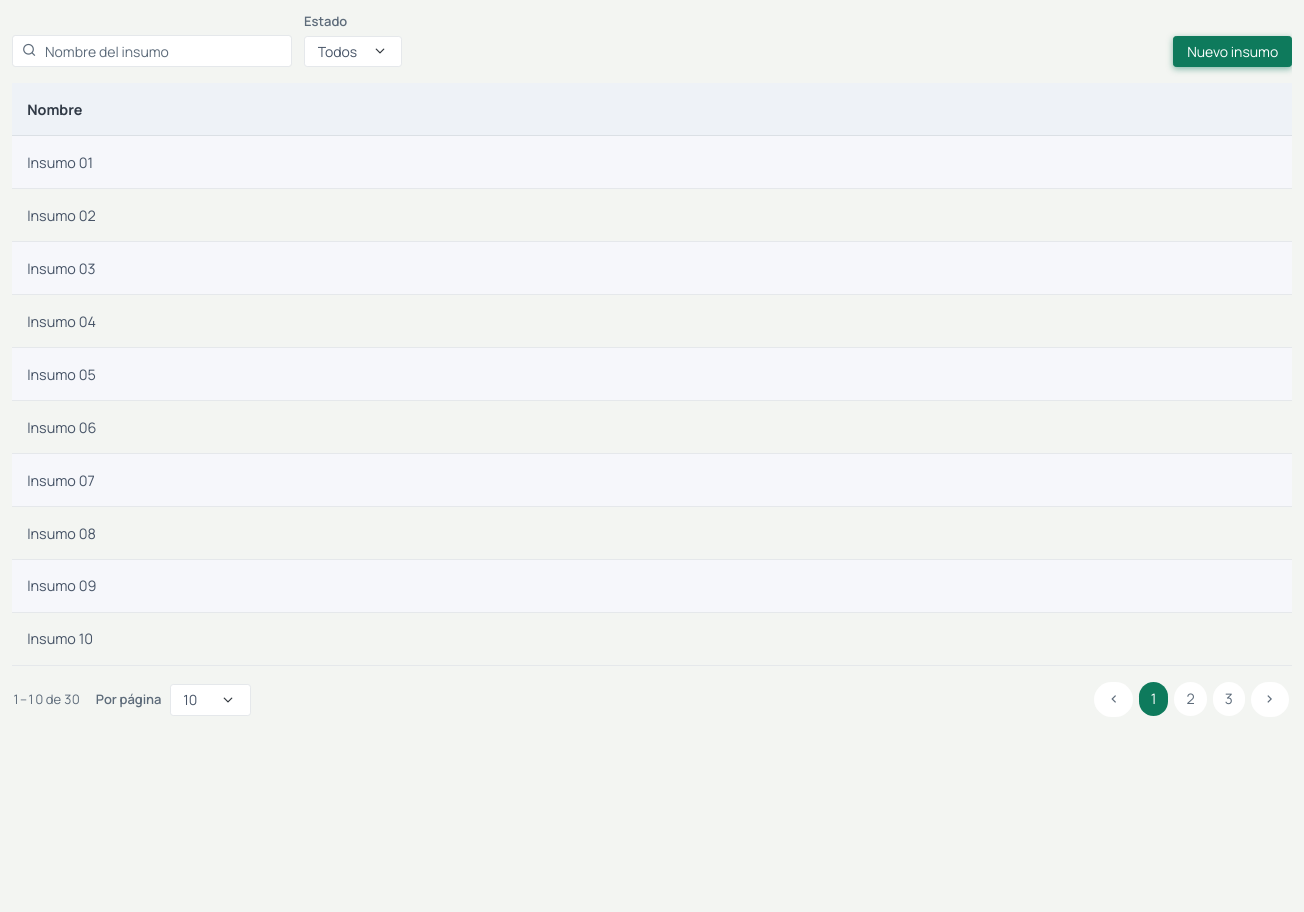
Test case: DataTable › moves through the pages with named buttons and marks the current one
What coordinates should you click on to do the following:
click the button named "Página siguiente"
I would click on:
 (1270, 700)
Its box is [1251, 682, 1289, 717].
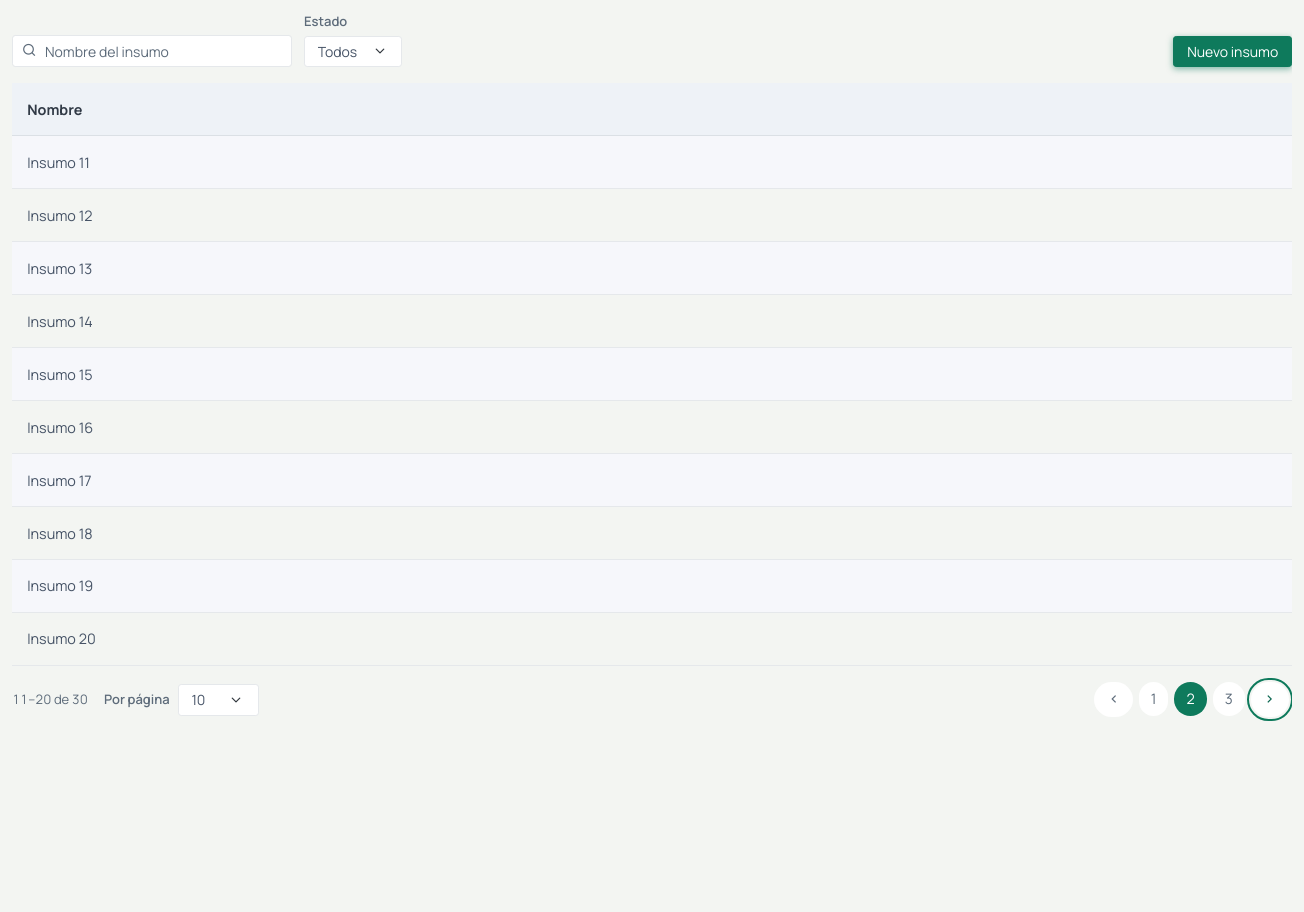
Expected: the button named "Página anterior" is enabled, [1094, 682, 1133, 717]
Expected: the text "11–20 de 30" is shown, [12, 690, 88, 709]
Expected: the cell "Insumo 11" is shown, [12, 136, 1292, 189]
